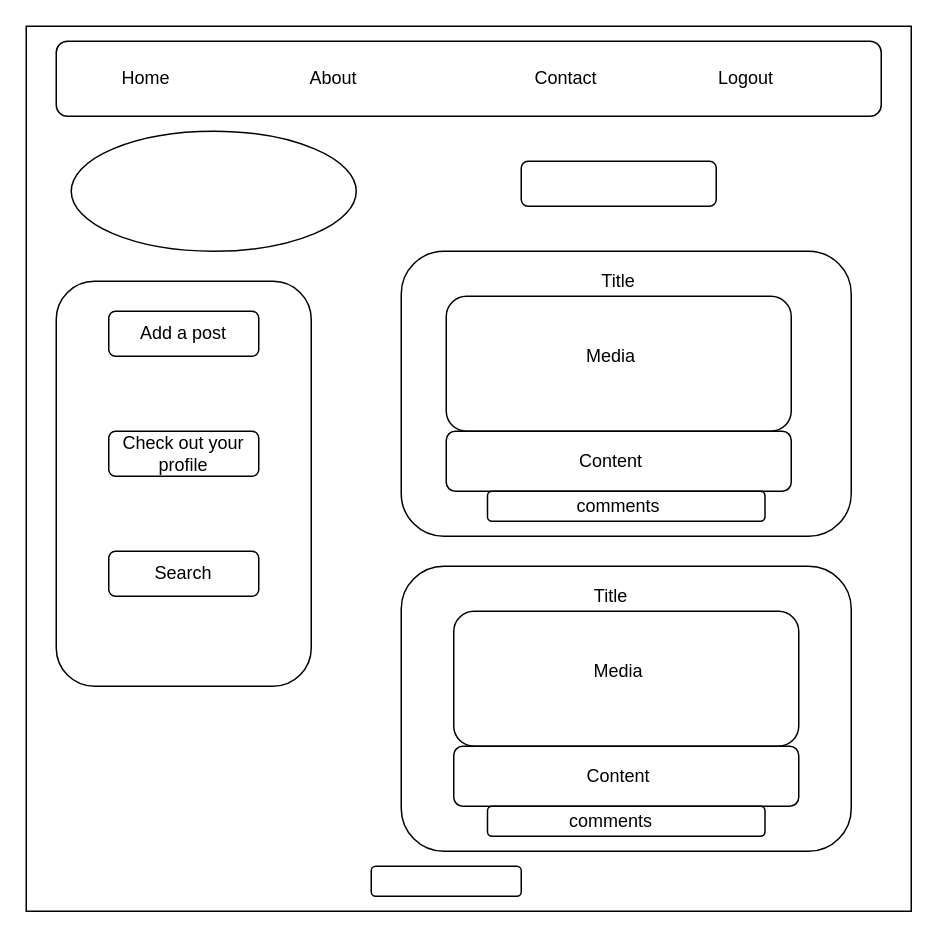
Image size: 938x938. Some labels were removed from this diagram. Here are the shapes that lost their labels. From the top down, the centre of each, then its label:
At [213,190]: "Welcome back, (username)!".
At [618,183]: "NEWSFEED".
At [445,880]: "Load More".
